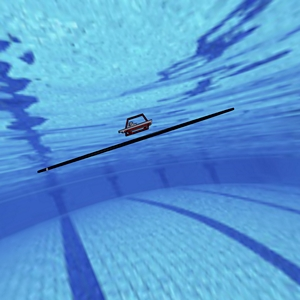circle: (28, 97, 243, 202)
submarine: (115, 111, 156, 140)
